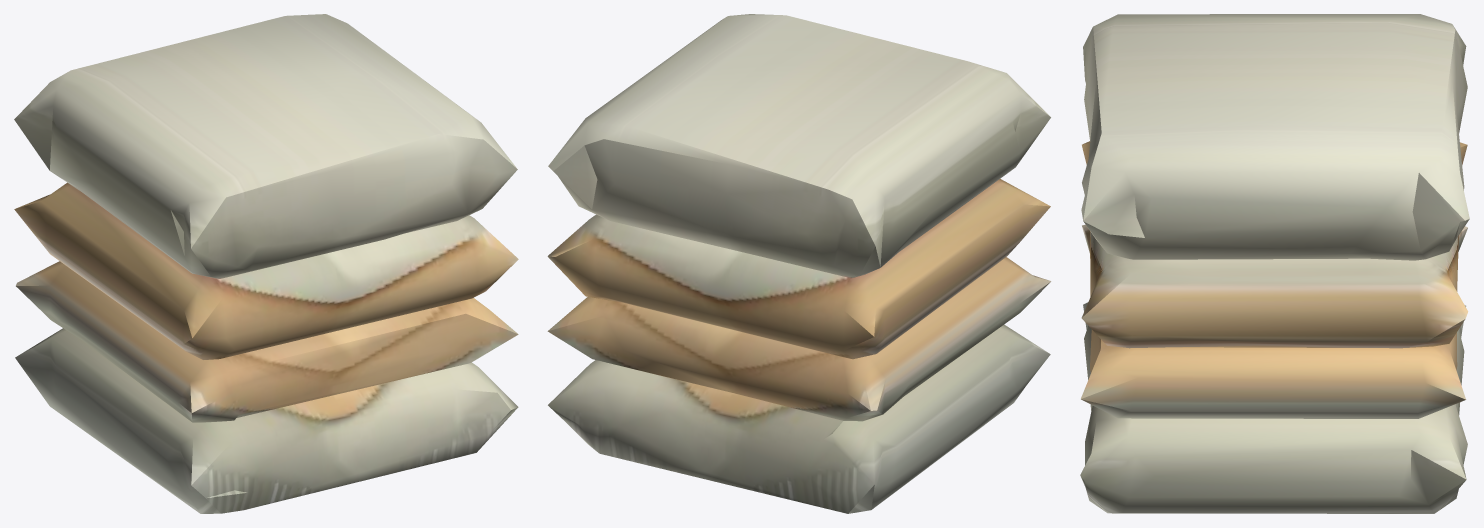
3 views of the same model, side by side, from view 1: azimuth 30°, elevation 25°; view 2: azimuth 150°, elevation 25°; view 3: azimuth 270°, elevation 25° (orthographic). The views are drawn at different scales.
Visible parts, largest first — view 1: Decor_feed_sacks; view 2: Decor_feed_sacks; view 3: Decor_feed_sacks.
Part boxes in pixels (<box>): Decor_feed_sacks: <box>14,14,518,513</box>; Decor_feed_sacks: <box>547,14,1051,513</box>; Decor_feed_sacks: <box>1080,14,1469,513</box>.
Size of the model in its own units: 0.7014 by 0.6956 by 0.6618.
1 material, 1 textured.
